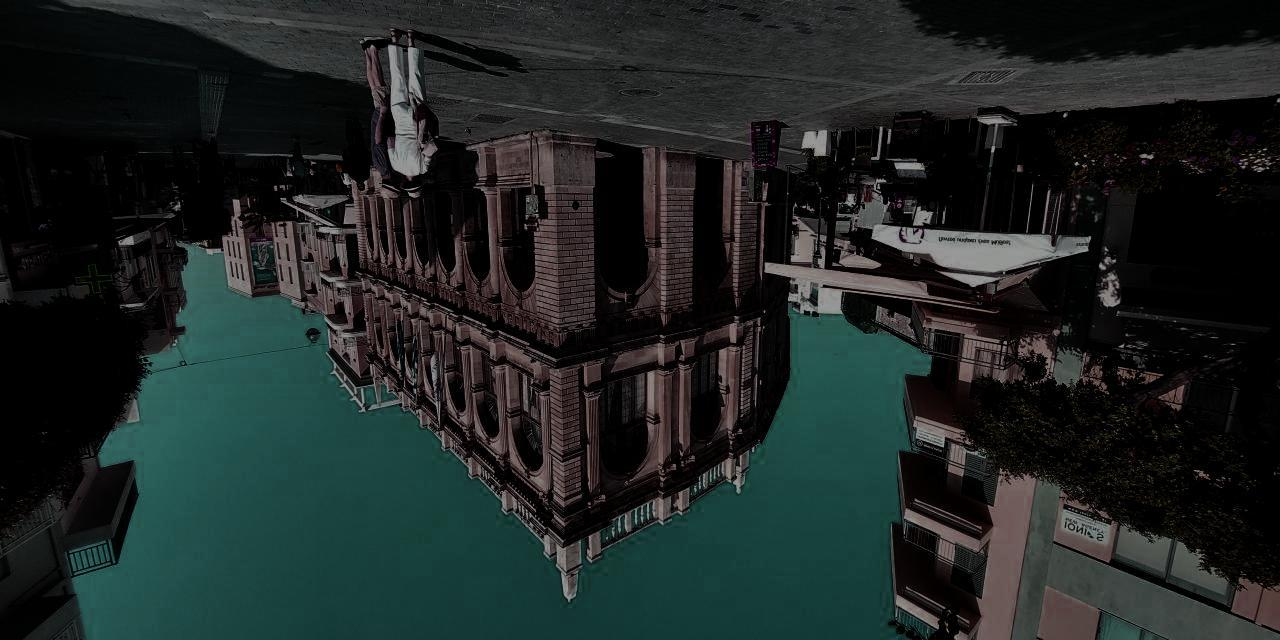Loggia: (356, 128, 804, 604)
